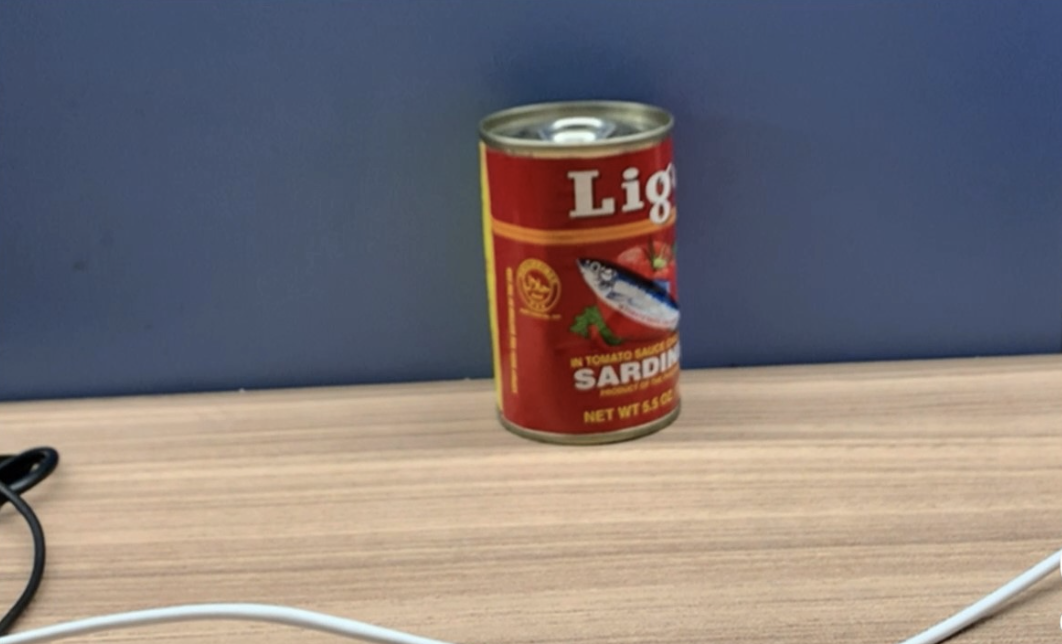sardines_100g-199g: (494, 154, 679, 424)
